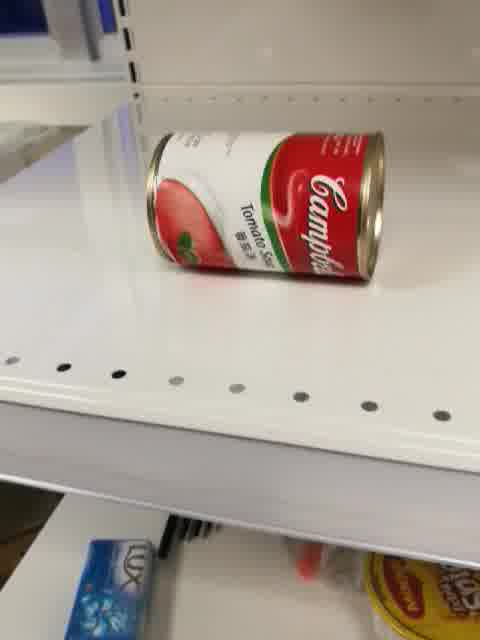tomatosoup: (142, 126, 386, 284)
